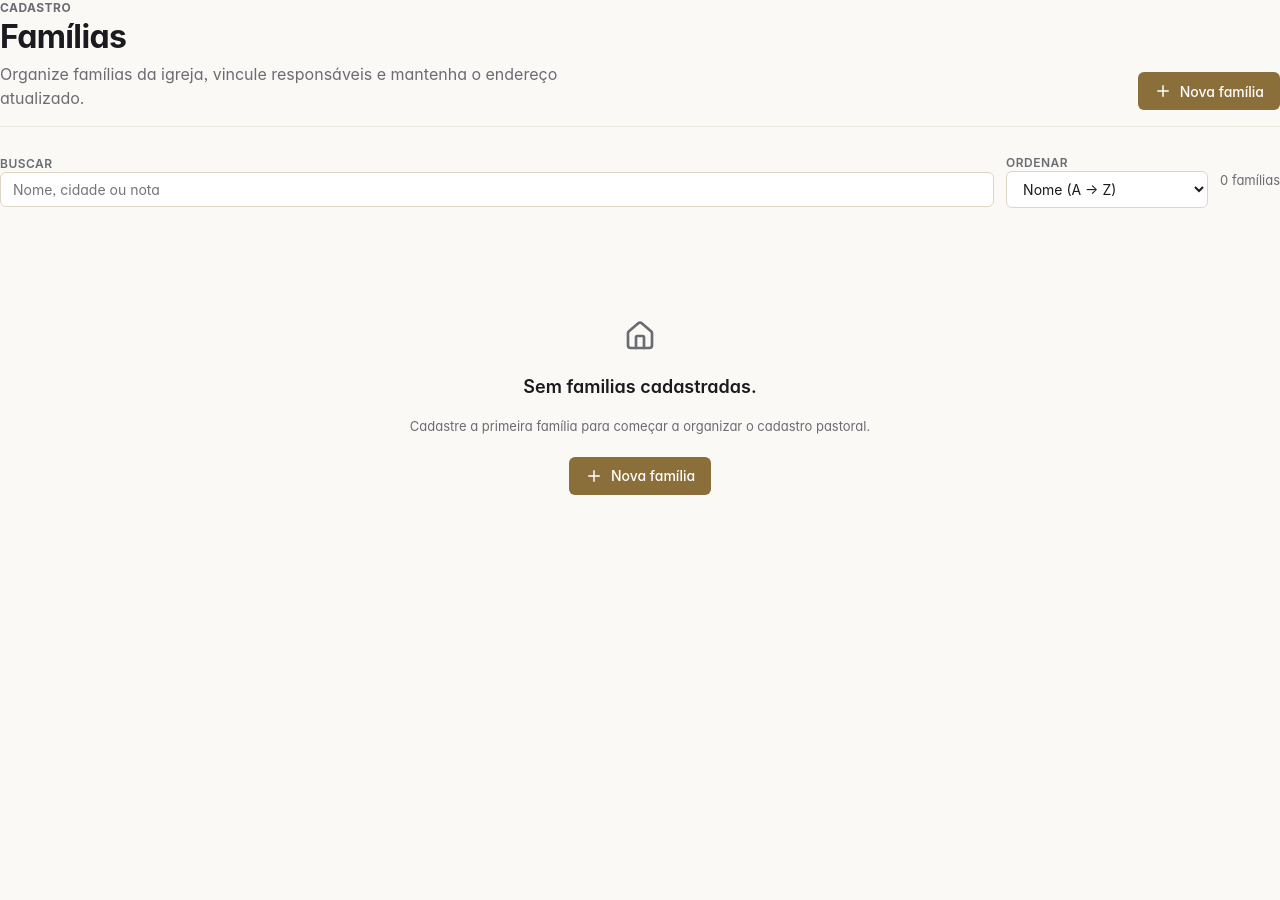
Test case: HouseholdsView › shows a danger toast when save fails
This screenshot has width=1280, height=900.
Click the 1st button "Nova família" at (1209, 91), box left=1138, top=72, right=1279, bottom=110
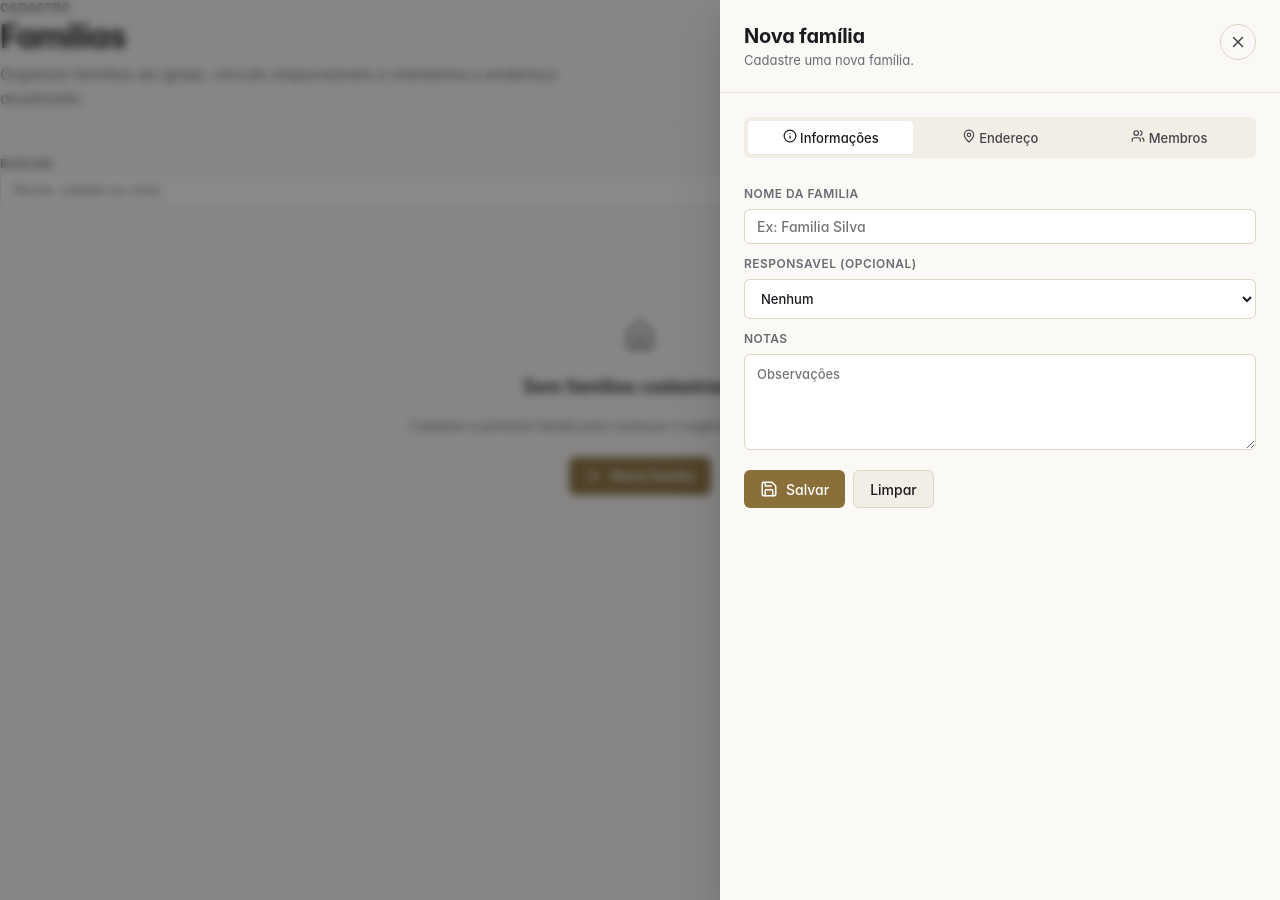
Type "Familia Erro" into the field labelled "Nome da familia" at (1000, 226), box left=744, top=209, right=1256, bottom=244
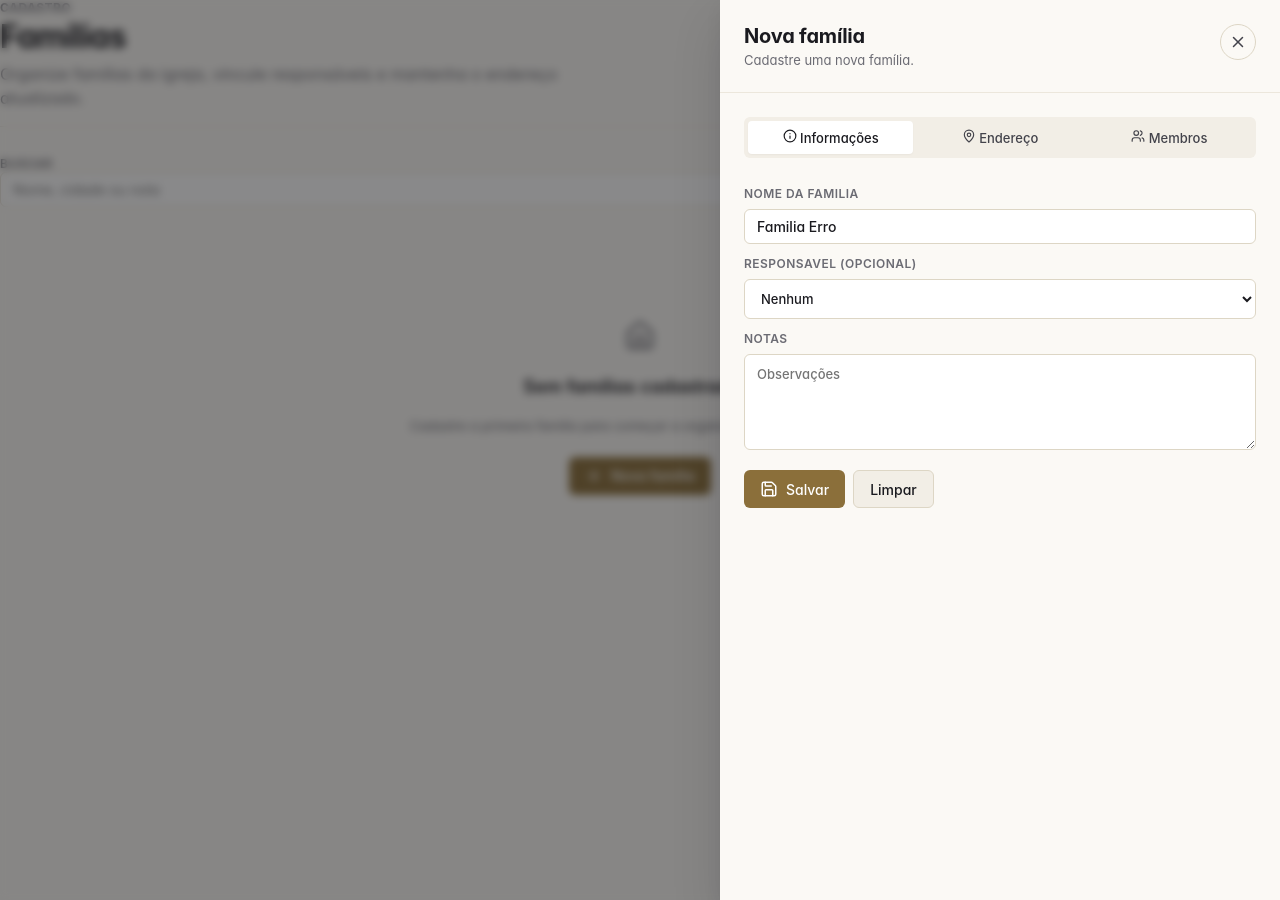
Submit the form "Salvar", box left=744, top=117, right=1256, bottom=508
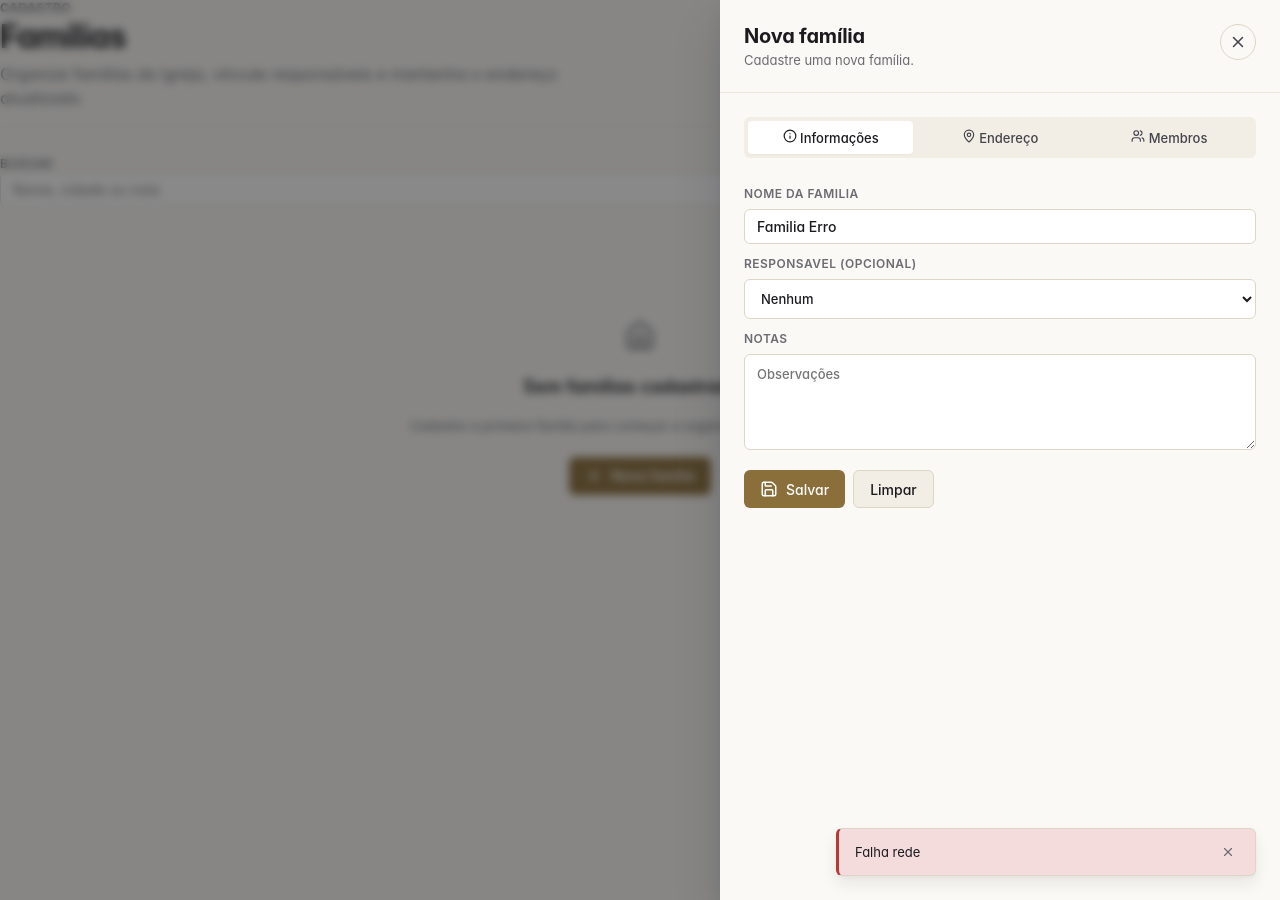
Expected: the text "Falha rede" is shown, left=855, top=844, right=920, bottom=860
